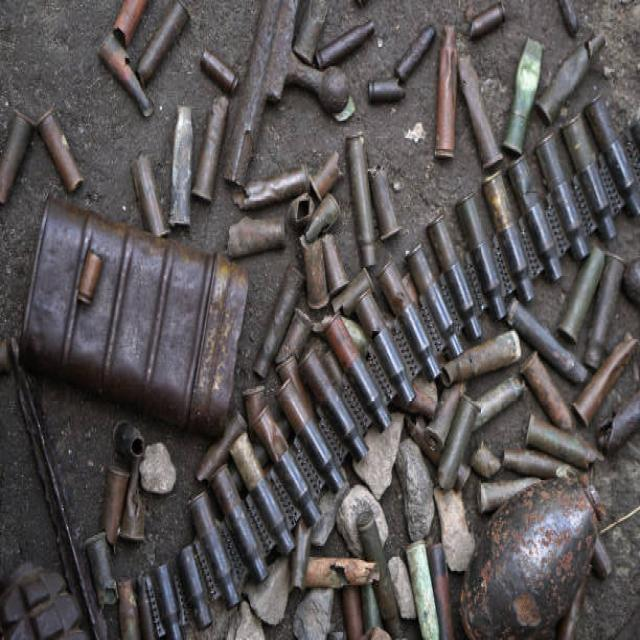grenade: (458, 470, 608, 640)
